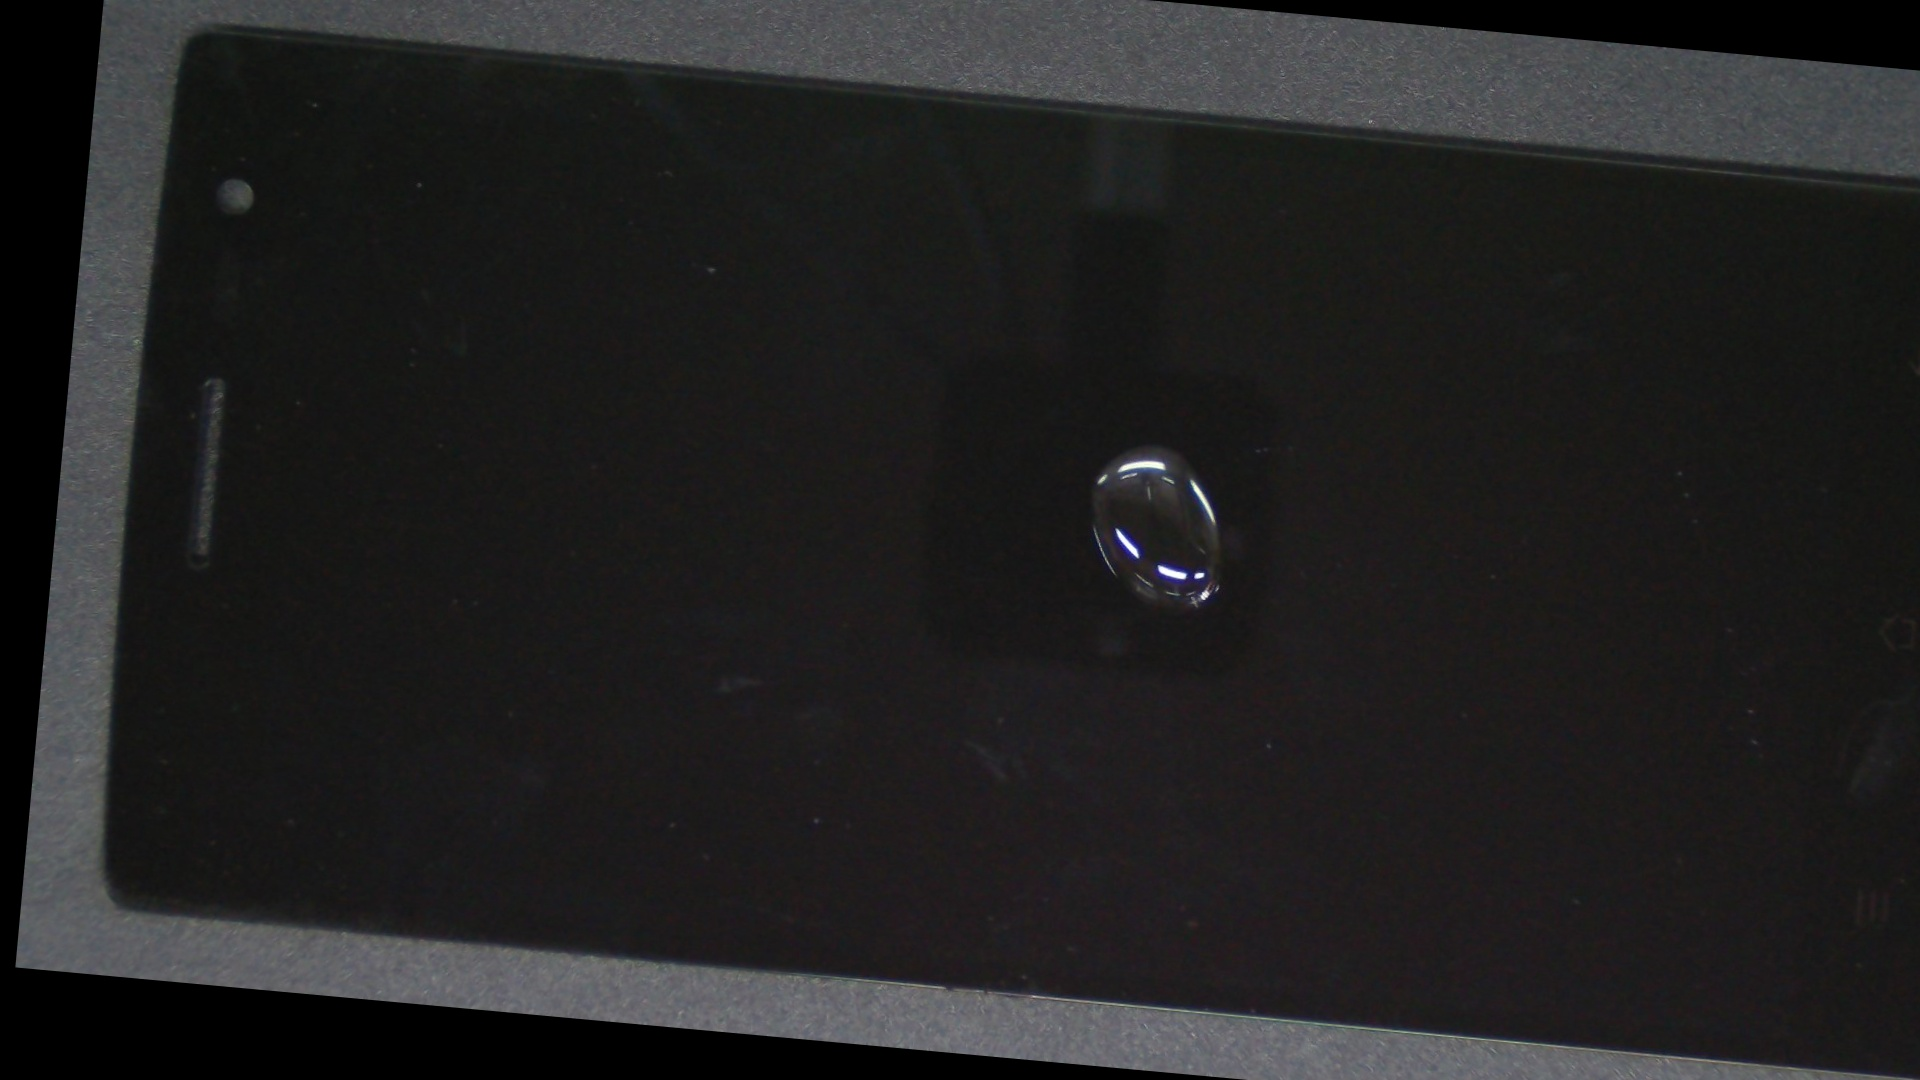oil: (595, 175, 1718, 715)
